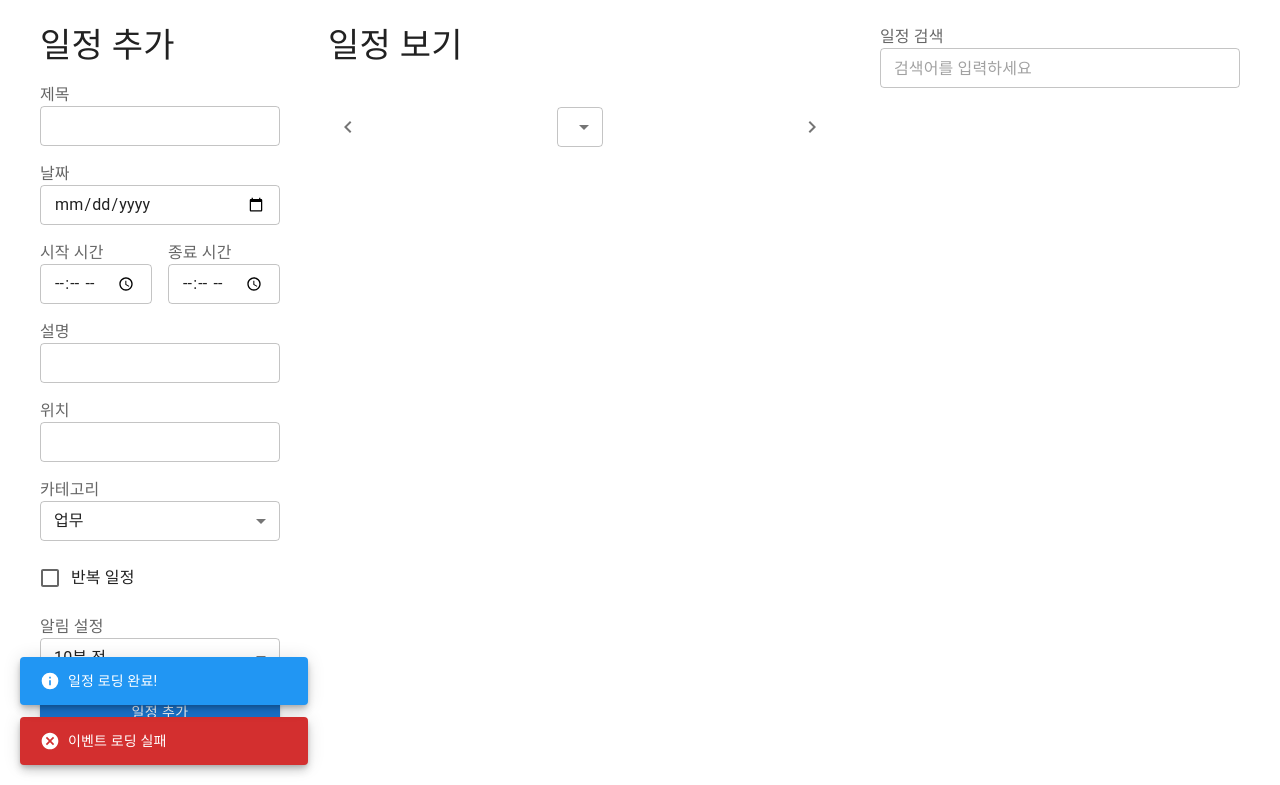
반복 UI 및 표시 › 반복 일정 체크 시 반복 유형/종료일 입력 UI가 노출된다
Click the checkbox labelled "반복 일정": (86, 578) [38,566,135,590]
(page scrolled)
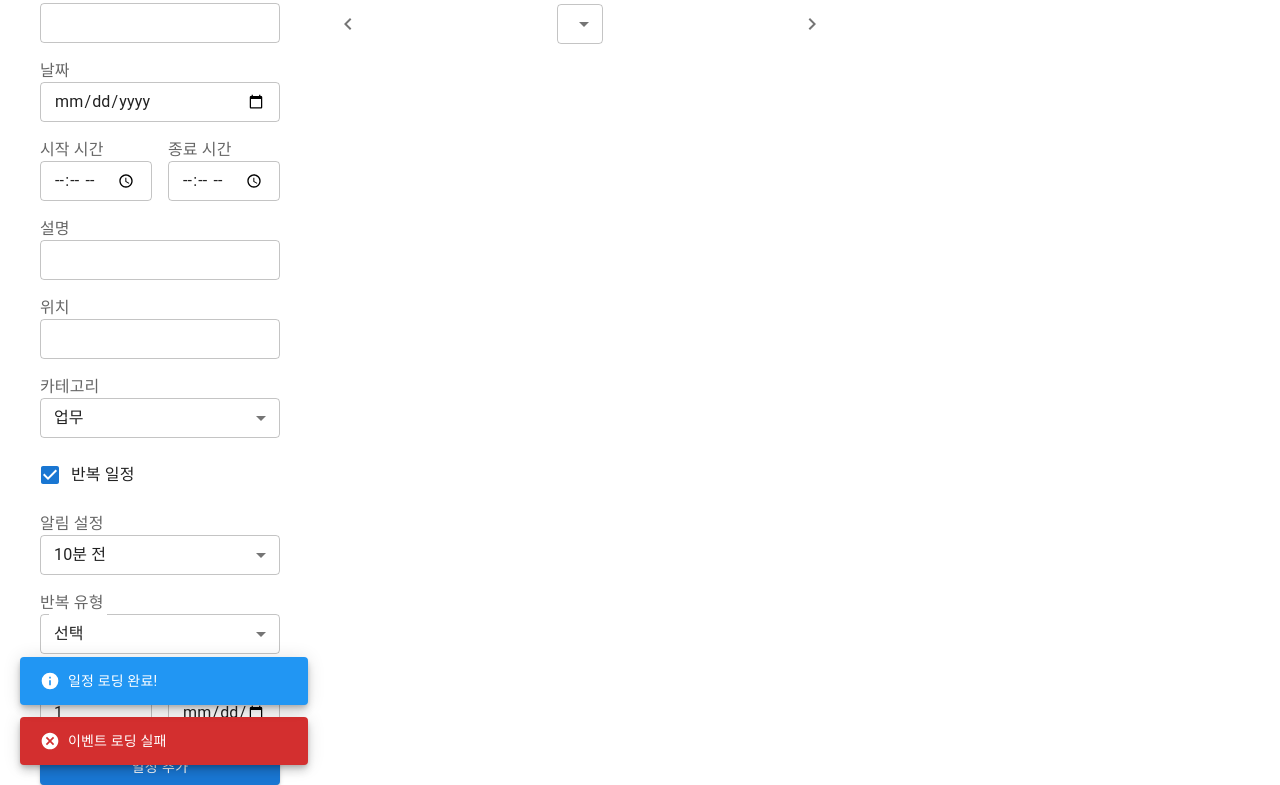
Expected: the dropdown named "반복 유형" is shown, [54,624,84,644]
Expected: the date field labelled "반복 종료일" is shown, [168,693,280,733]
